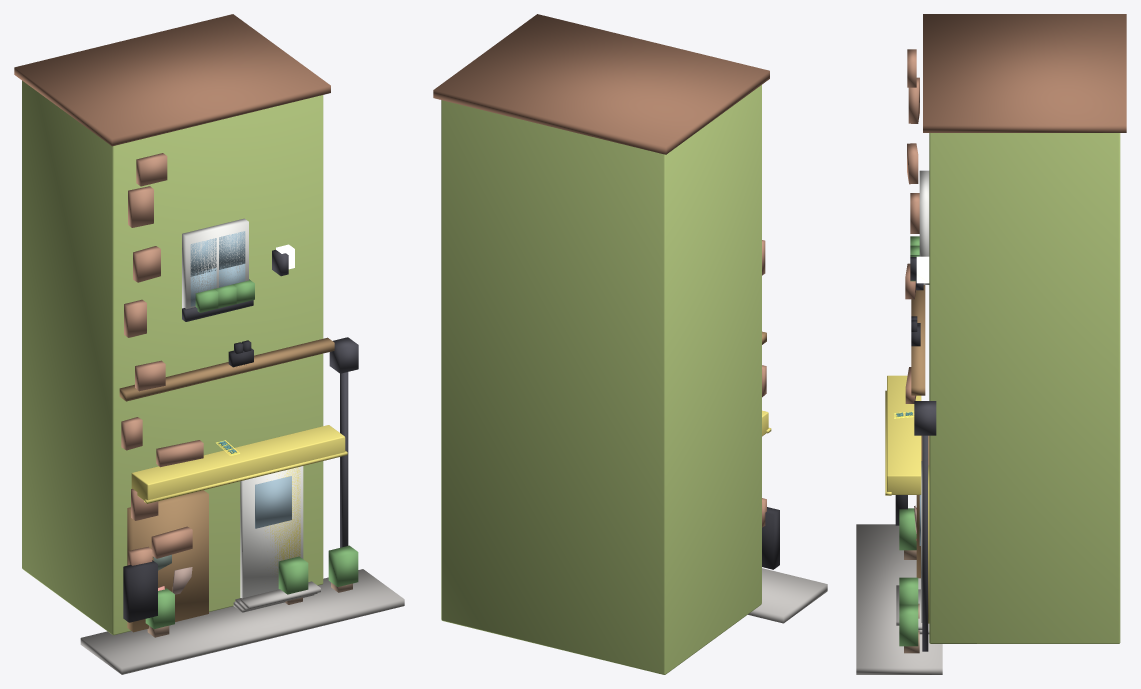
The model's file is lime_shop_art.glb.
The picture shows the model from 3 angles, left to right: view 1: azimuth 30°, elevation 25°; view 2: azimuth 150°, elevation 25°; view 3: azimuth 270°, elevation 25°; orthographic projection. The views are drawn at different scales.
Visible parts, largest first — view 1: LimeArt_Body, LimeArt_Roof, LimeArt_Sidewalk, LimeArt_Awning, LimeArt_DisplayNiche, LimeArt_DoorFrame, LimeArt_WinFrame, LimeArt_Ledge, LimeArt_Board, LimeArt_DoorGlass, LimeArt_LampPole, LimeArt_Door (+17 smaller); view 2: LimeArt_Body, LimeArt_Roof, LimeArt_Sidewalk, LimeArt_Board; view 3: LimeArt_Body, LimeArt_Roof, LimeArt_Sidewalk, LimeArt_Awning, LimeArt_LampPole, LimeArt_Ledge, LimeArt_WinFrame, LimeArt_Plant1, LimeArt_LampHead, LimeArt_Plant0, LimeArt_Plant2, LimeArt_DisplayNiche (+2 smaller).
Part boxes in pixels (x1,y1,x2,y2): LimeArt_Body: [22, 80, 323, 635]; LimeArt_Roof: [14, 14, 330, 146]; LimeArt_Sidewalk: [80, 569, 404, 674]; LimeArt_Awning: [131, 425, 345, 500]; LimeArt_DisplayNiche: [127, 490, 208, 632]; LimeArt_DoorFrame: [240, 466, 303, 598]; LimeArt_WinFrame: [182, 218, 248, 309]; LimeArt_Ledge: [119, 337, 334, 401]; LimeArt_Board: [123, 560, 157, 622]; LimeArt_DoorGlass: [255, 476, 291, 528]; LimeArt_LampPole: [340, 372, 348, 547]; LimeArt_Door: [265, 467, 300, 579]; LimeArt_Body: [441, 85, 761, 674]; LimeArt_Roof: [433, 14, 769, 154]; LimeArt_Sidewalk: [748, 568, 827, 623]; LimeArt_Board: [762, 507, 779, 569]; LimeArt_Body: [929, 133, 1120, 643]; LimeArt_Roof: [923, 14, 1126, 132]; LimeArt_Sidewalk: [856, 524, 942, 674]; LimeArt_Awning: [887, 375, 921, 494]; LimeArt_LampPole: [922, 435, 928, 651]; LimeArt_Ledge: [911, 285, 925, 395]; LimeArt_WinFrame: [919, 170, 929, 284]; LimeArt_Plant1: [899, 604, 918, 646]; LimeArt_LampHead: [914, 401, 936, 435]; LimeArt_Plant0: [899, 508, 916, 550]; LimeArt_Plant2: [899, 577, 918, 604]; LimeArt_DisplayNiche: [916, 435, 929, 578].
Size of the model in its own units: 4.34 by 7.44 by 3.45.
